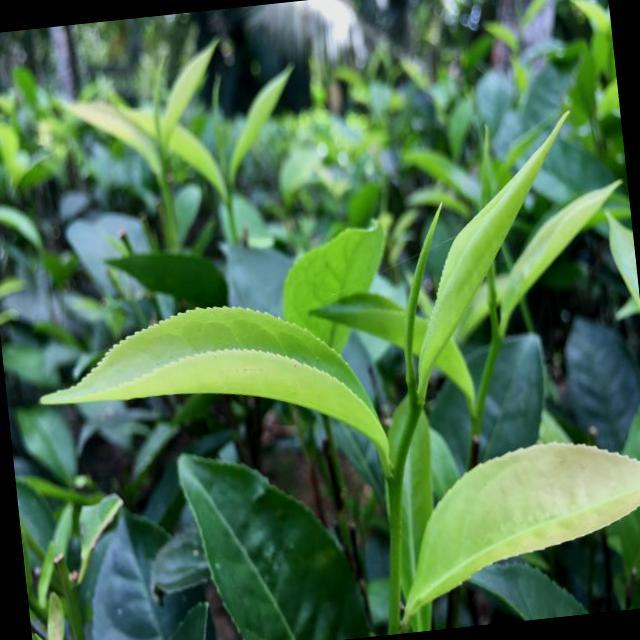Stem: (397, 411, 421, 457)
